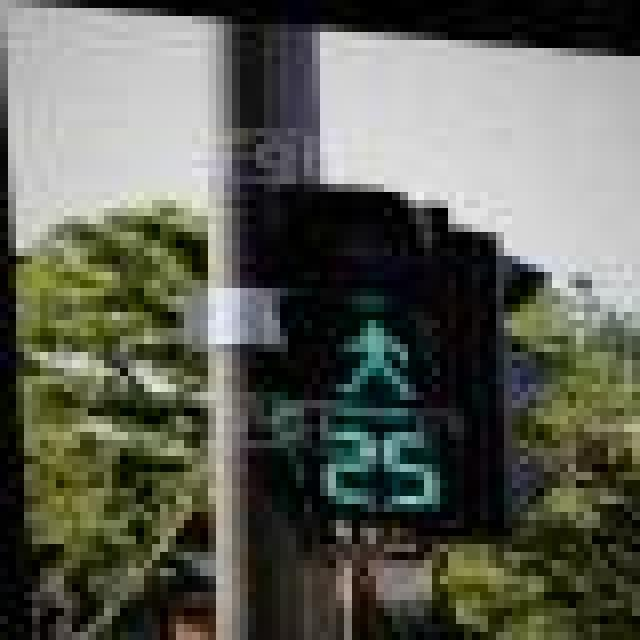greenlight: (296, 176, 448, 408)
